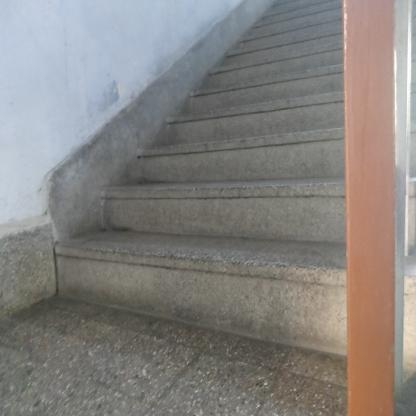stairs: (125, 109, 338, 379)
